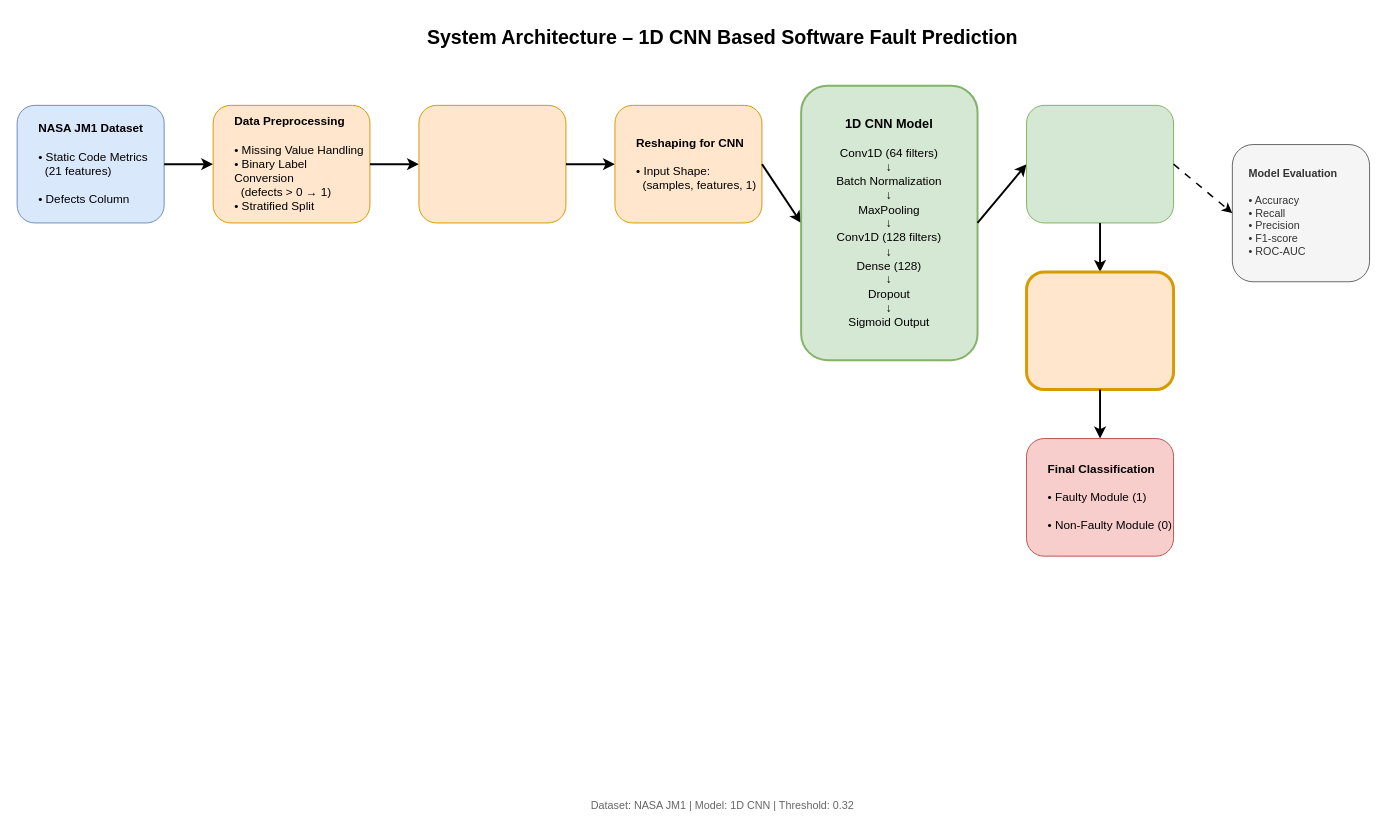
Some shapes in this 1387 by 837 pixel diagram are drawn without their labels. The centre of each missing label's shape, as x and y in pixels:
"Feature Scaling • StandardScaler • Normalized Features" goes at [492,163].
"Optimized Threshold (0.32) • Decision Rule • Optimized via Threshold Sweep" goes at [1100,330].
"Probability Output • Output Range: 0 to 1" goes at [1100,163].
